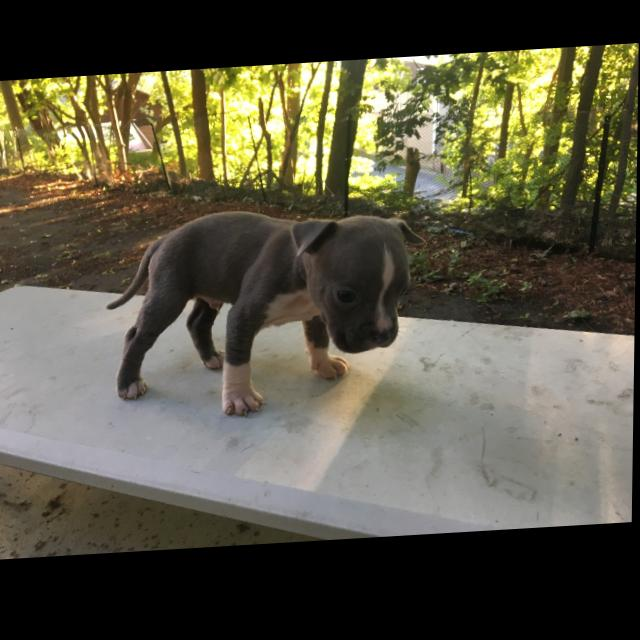am_pit_bull_terrier: (106, 204, 428, 427)
